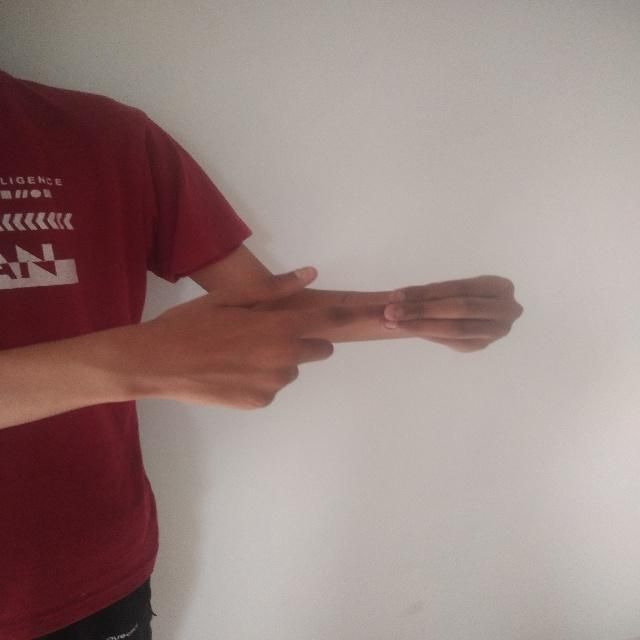Five Fathers: (106, 258, 534, 426)
